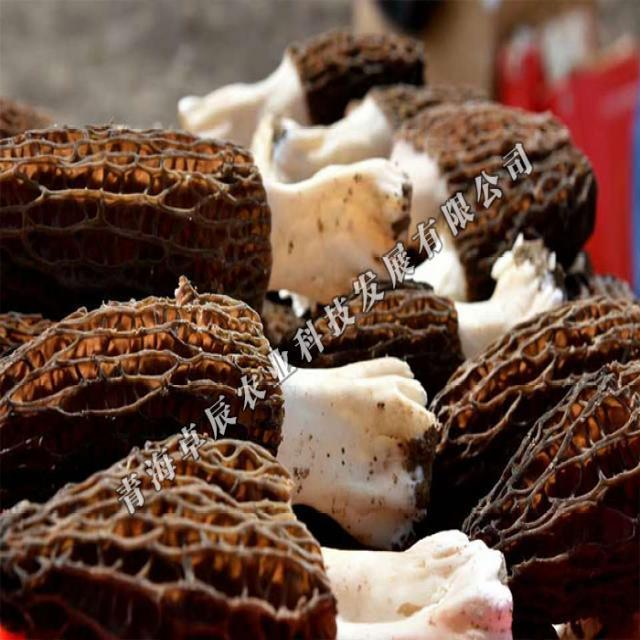Morchella esculenta: (0, 291, 438, 539), (0, 434, 516, 639), (0, 123, 414, 286), (169, 36, 424, 135)
